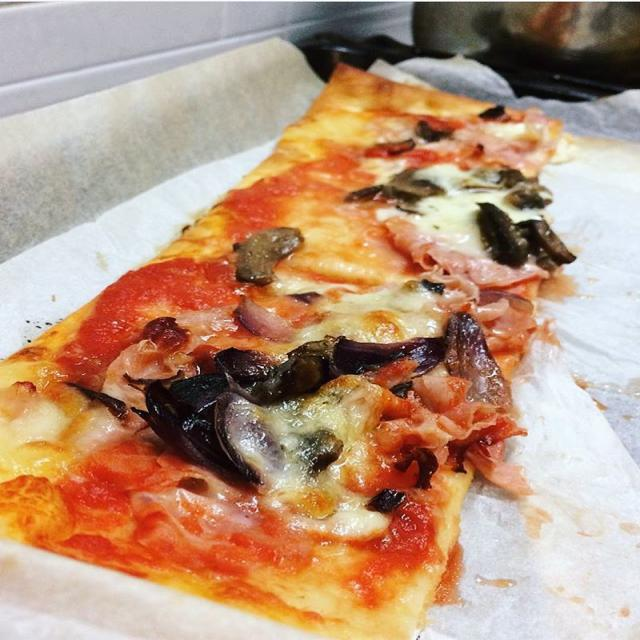mushrooms: (258, 338, 343, 398), (338, 166, 441, 210), (236, 223, 306, 285), (469, 198, 529, 268), (510, 216, 577, 268), (294, 426, 343, 480), (460, 162, 528, 190), (360, 486, 417, 513), (504, 181, 557, 208), (407, 116, 455, 142)
pizza: (0, 59, 573, 640)
